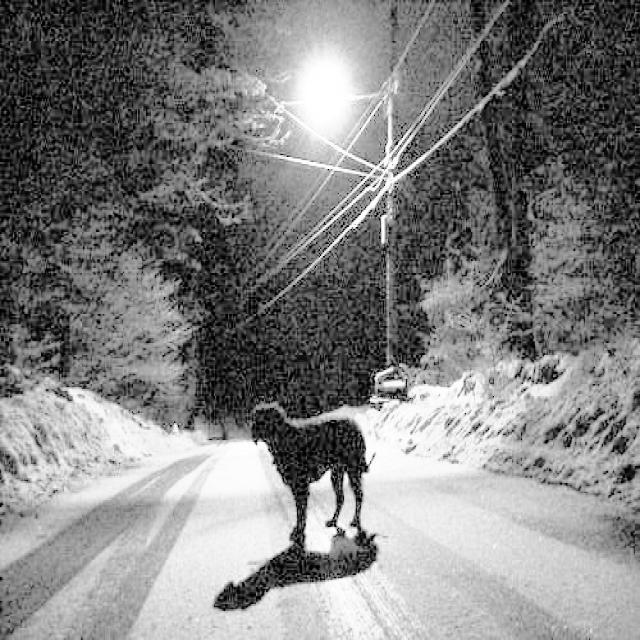Dog: (235, 388, 411, 557)
